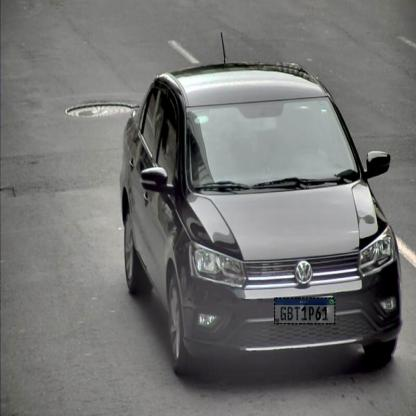PlacaM: (274, 298, 335, 324)
